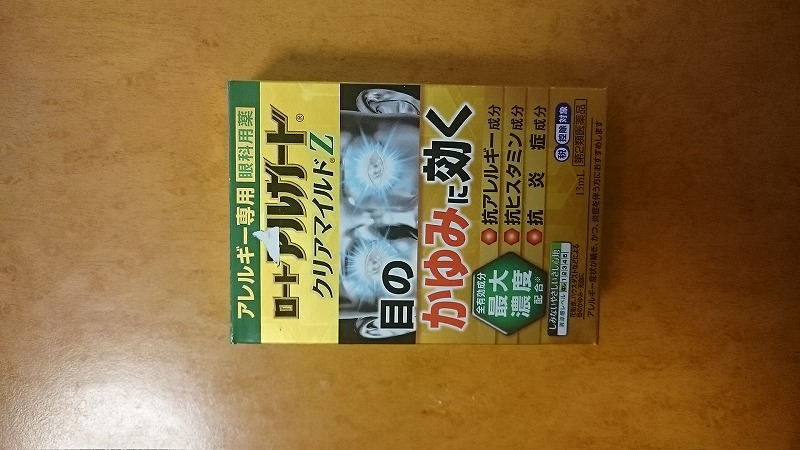C: (219, 73, 613, 365)
